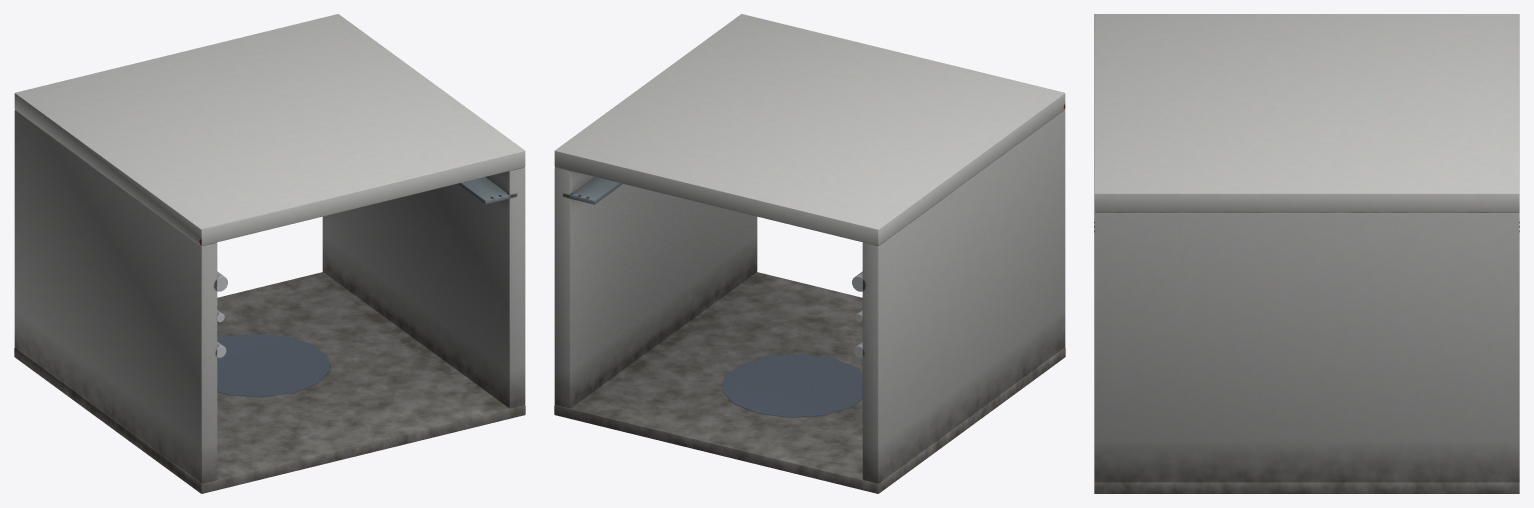
Rendered from g67_pz_tunnel.glb.
3 renders of one model, left to right at view 1: azimuth 30°, elevation 25°; view 2: azimuth 150°, elevation 25°; view 3: azimuth 270°, elevation 25°, orthographic. The views are drawn at different scales.
Visible parts, largest first — view 1: g67_pz_tunnel; view 2: g67_pz_tunnel; view 3: g67_pz_tunnel.
Part boxes in pixels (x1,y1,x2,y2): g67_pz_tunnel: (14, 14, 525, 493); g67_pz_tunnel: (554, 14, 1065, 493); g67_pz_tunnel: (1094, 14, 1519, 493).
Size of the model in its own units: 4 by 3.12 by 4.
1 material, 1 textured.
